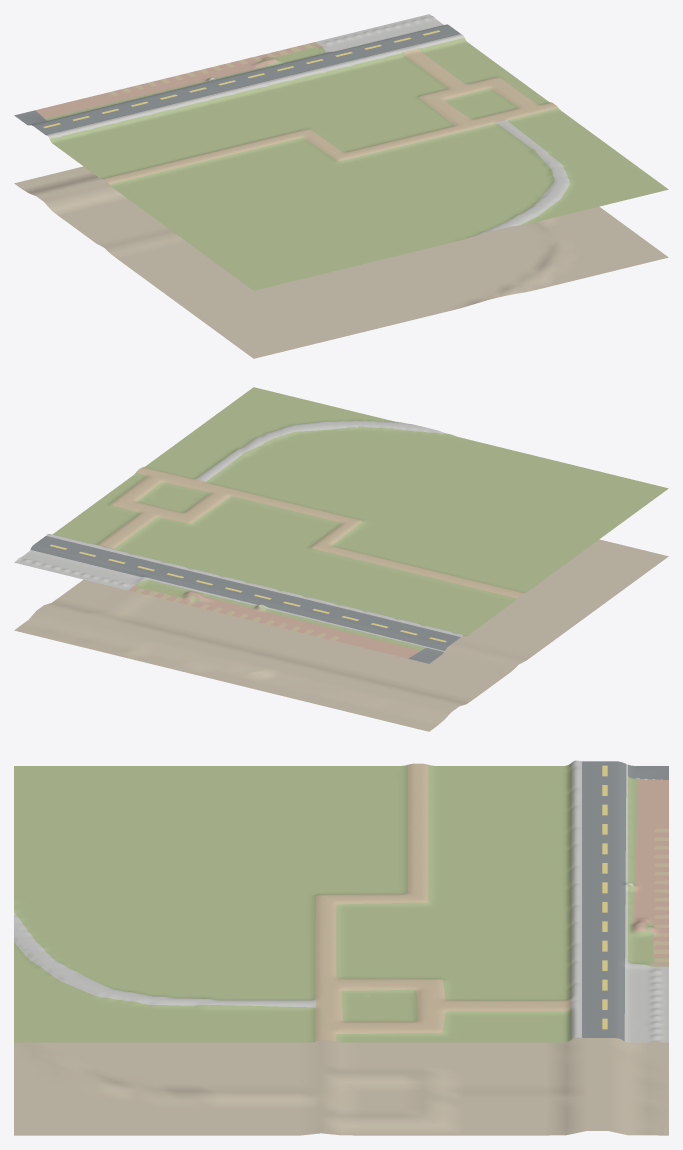
3 renders of one model, top to bottom at view 1: azimuth 30°, elevation 25°; view 2: azimuth 150°, elevation 25°; view 3: azimuth 270°, elevation 25°, orthographic. The views are drawn at different scales.
Parts seen in each view (by area): view 1: s_-6_-1__grass, s_-6_-1__soil, s_-6_-1__timber_deck, s_-6_-1__stone_paving, s_-6_-1__asphalt, s_-6_-1__brick_paving, s_-6_-1__yellow_marking; view 2: s_-6_-1__grass, s_-6_-1__soil, s_-6_-1__asphalt, s_-6_-1__timber_deck, s_-6_-1__stone_paving, s_-6_-1__brick_paving, s_-6_-1__yellow_marking; view 3: s_-6_-1__grass, s_-6_-1__soil, s_-6_-1__timber_deck, s_-6_-1__asphalt, s_-6_-1__stone_paving, s_-6_-1__brick_paving, s_-6_-1__yellow_marking.
Boxes of the visible parts, x1=… form: s_-6_-1__grass: x1=44, y1=38, x2=668, y2=290; s_-6_-1__soil: x1=14, y1=62, x2=668, y2=358; s_-6_-1__timber_deck: x1=103, y1=43, x2=558, y2=184; s_-6_-1__stone_paving: x1=37, y1=14, x2=570, y2=235; s_-6_-1__asphalt: x1=14, y1=24, x2=460, y2=134; s_-6_-1__brick_paving: x1=35, y1=42, x2=321, y2=118; s_-6_-1__yellow_marking: x1=43, y1=30, x2=439, y2=127; s_-6_-1__grass: x1=52, y1=387, x2=668, y2=651; s_-6_-1__soil: x1=14, y1=539, x2=668, y2=731; s_-6_-1__asphalt: x1=30, y1=536, x2=460, y2=663; s_-6_-1__timber_deck: x1=98, y1=467, x2=524, y2=640; s_-6_-1__stone_paving: x1=14, y1=420, x2=463, y2=651; s_-6_-1__brick_paving: x1=129, y1=585, x2=419, y2=658; s_-6_-1__yellow_marking: x1=50, y1=544, x2=446, y2=642; s_-6_-1__grass: x1=14, y1=763, x2=668, y2=1042; s_-6_-1__soil: x1=14, y1=904, x2=668, y2=1135; s_-6_-1__timber_deck: x1=316, y1=763, x2=668, y2=1041; s_-6_-1__asphalt: x1=582, y1=761, x2=668, y2=1041; s_-6_-1__stone_paving: x1=14, y1=760, x2=668, y2=1042; s_-6_-1__brick_paving: x1=633, y1=779, x2=668, y2=966; s_-6_-1__yellow_marking: x1=602, y1=765, x2=607, y2=1029.
Bounding box in the file's own units: 128 × 21.24 × 128.
